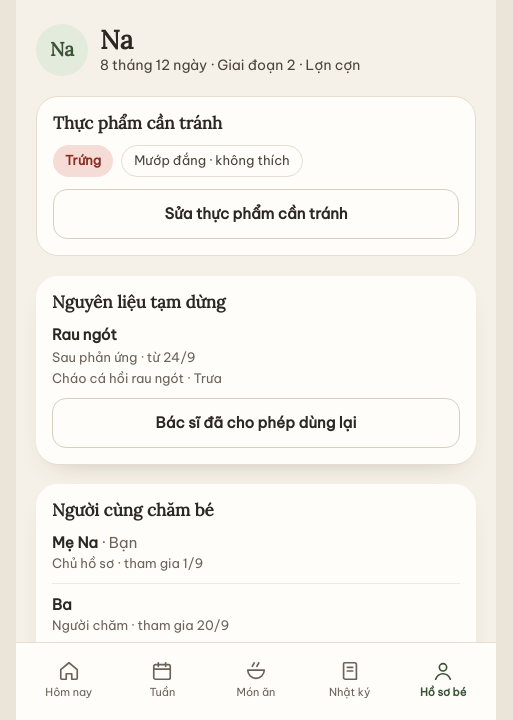
Scenario: Paused foods in the profile (G08) › TC-RES-004 resumes only after the second confirmation, then refreshes the list
Step 1. Click the button with aria-label "Bác sĩ đã cho phép dùng lại Rau ngót" → click(256, 423), box [52, 398, 460, 448]
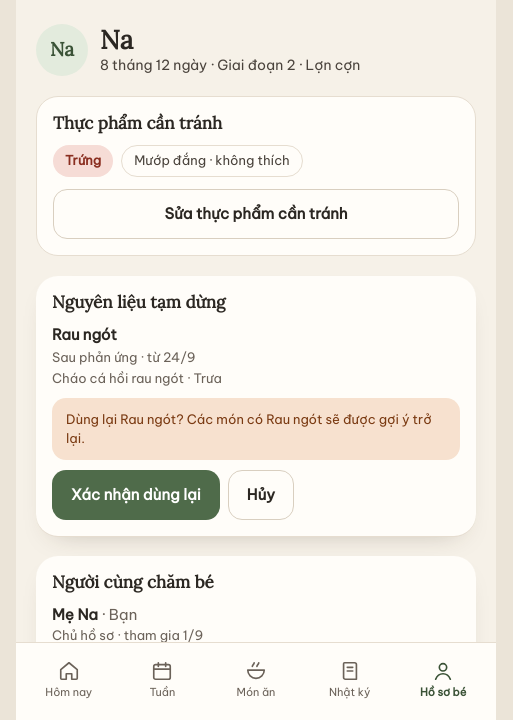
Now the text "Dùng lại Rau ngót?" is shown, box [66, 411, 432, 446]
Step 2. Click the button "Hủy" → click(261, 494), box [228, 470, 294, 520]
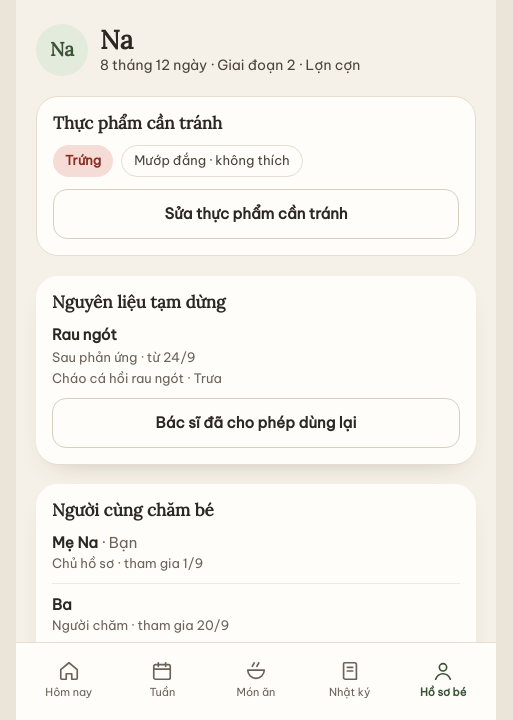
Step 3. Click the button with aria-label "Bác sĩ đã cho phép dùng lại Rau ngót" → click(256, 423), box [52, 398, 460, 448]
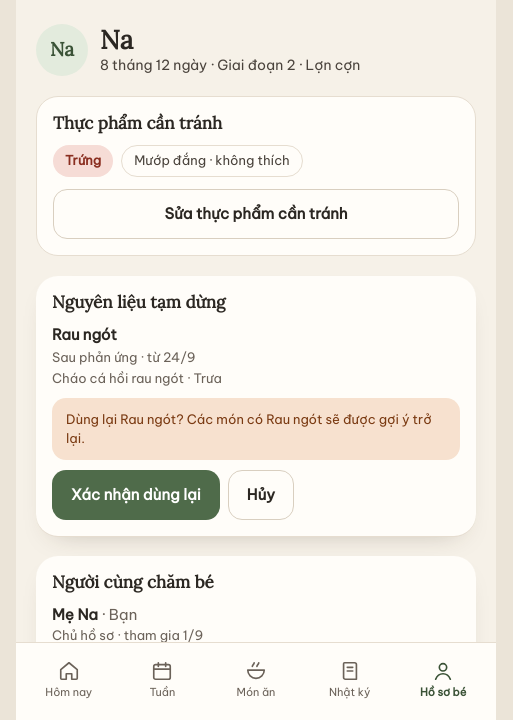
Step 4. Click the button "Xác nhận dùng lại" → click(136, 494), box [52, 470, 220, 520]
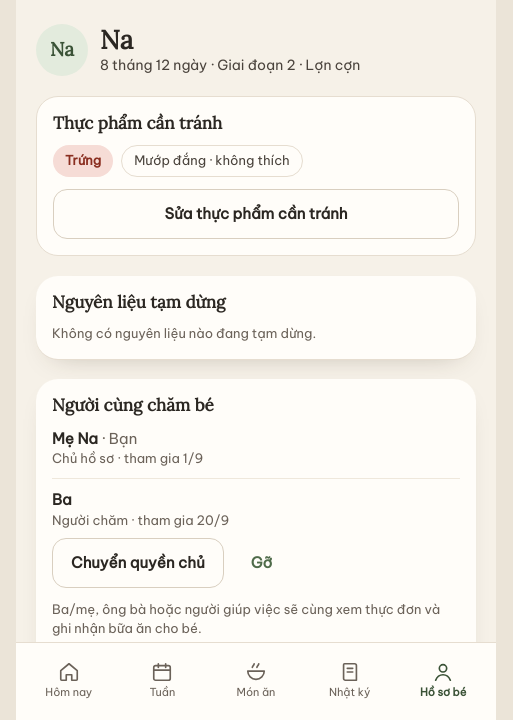
Now the text "Không có nguyên liệu nào đang tạm dừng." is shown, box [52, 325, 316, 341]
